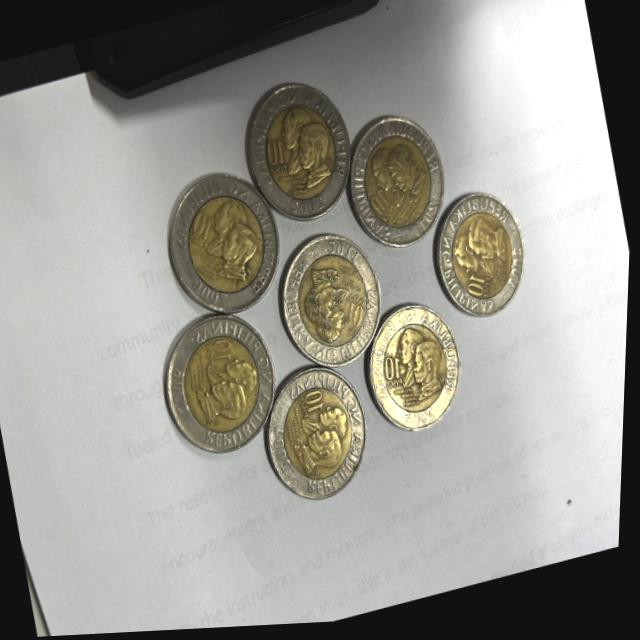10_Old_Front: (465, 274, 495, 308), (369, 189, 396, 224), (383, 355, 410, 390), (190, 211, 217, 244), (265, 139, 290, 172), (304, 390, 332, 419), (213, 338, 237, 370), (345, 302, 369, 333)
